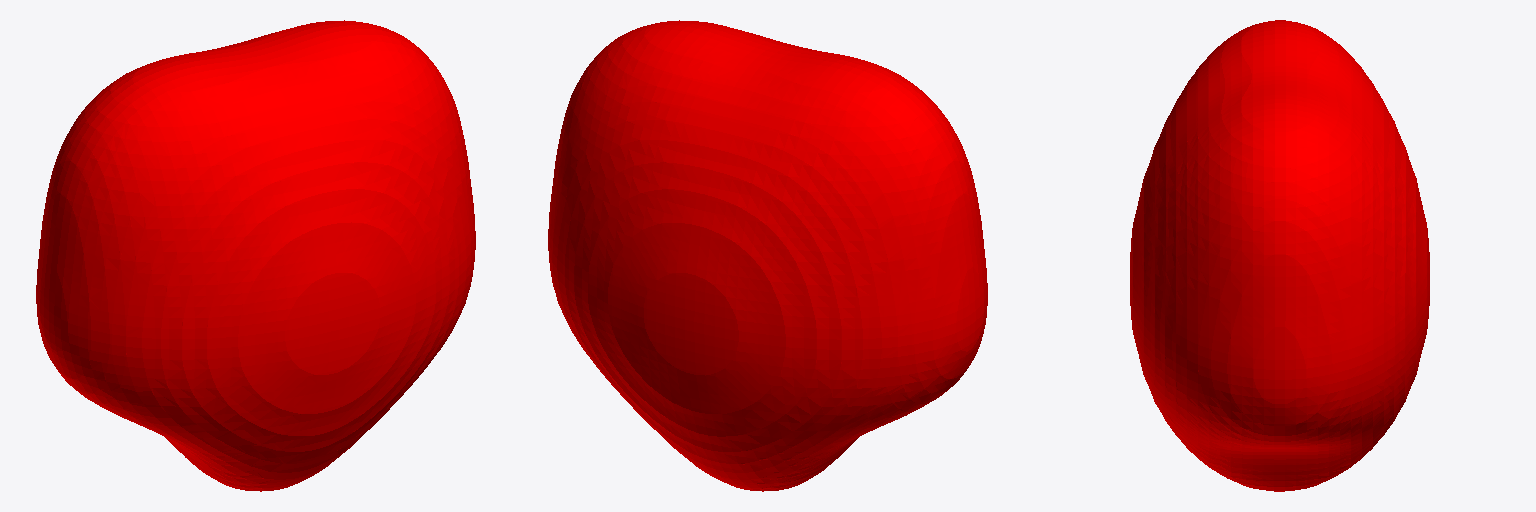
The robot description file, URDF, robot "heart":
<?xml version="1.0"?>
<robot name="heart">
  <link name="base_link">
    <inertial>
      <mass value="5.0"/>
      <origin xyz="0 0 0" rpy="0 0 0"/>
      <inertia ixx="0.1" ixy="0" ixz="0" iyy="0.1" iyz="0" izz="0.1"/>
    </inertial>
    <visual>
      <origin xyz="0 0 0" rpy="1.57 0 0"/>
      <geometry>
        <mesh filename="heart2_6.stl" scale="1 1 1"/>
      </geometry>
      <material name="red">
        <color rgba="1 0 0 1"/>
      </material>
    </visual>
    <collision>
      <origin xyz="0 0 0" rpy="1.57 0 0"/>
      <geometry>
        <mesh filename="heart2_6.stl" scale="1 1 1"/>
      </geometry>
    </collision>
  </link>
</robot>

--- Render facts (derived) ---
3 views of the same robot in one strip: view 1: azimuth 30°, elevation 25°; view 2: azimuth 150°, elevation 25°; view 3: azimuth 270°, elevation 25° (orthographic).
Robot: heart — 1 links, 0 joints (none); root link base_link; default pose: every joint at zero.
Visible links, largest first — view 1: base_link; view 2: base_link; view 3: base_link.
Link boxes in pixels (bbox=[...]): base_link: bbox=[36, 20, 475, 491]; base_link: bbox=[548, 20, 987, 491]; base_link: bbox=[1130, 20, 1429, 491].
Bounding box of the posed robot: 0.5001 × 0.3322 × 0.5061 m (x, y, z).
1 mesh visuals loaded from 1 distinct referenced files (1 binary STL).